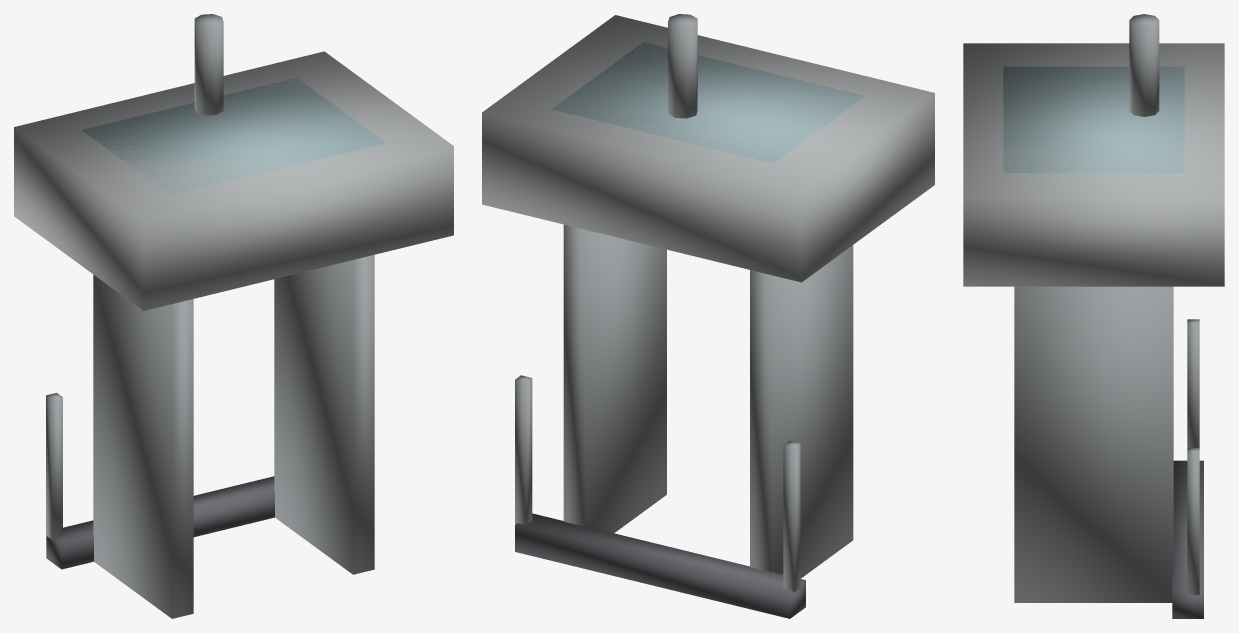
File: bar_sink__reinforced.glb
The picture shows the model from 3 angles, left to right: view 1: azimuth 30°, elevation 25°; view 2: azimuth 150°, elevation 25°; view 3: azimuth 270°, elevation 25°; orthographic projection. The views are drawn at different scales.
Visible parts, largest first — view 1: world; view 2: world; view 3: world.
Part boxes in pixels (left/top/right/bottom): world: left=14, top=14, right=453, bottom=618; world: left=482, top=14, right=934, bottom=618; world: left=963, top=14, right=1224, bottom=618.
Bounding box in the file's own units: 0.7416 × 1.2 × 0.5356.
